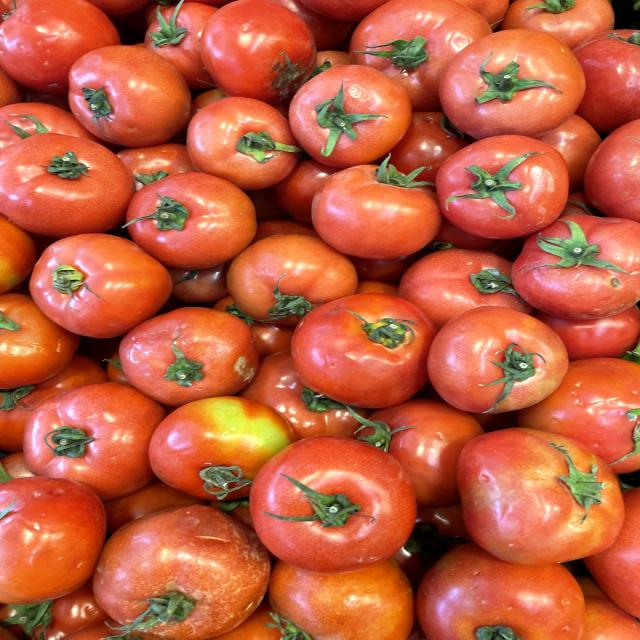tomato: (437, 414, 640, 564), (240, 428, 425, 574), (412, 295, 603, 416), (11, 220, 189, 337), (292, 289, 459, 413), (95, 302, 276, 406), (433, 25, 596, 137), (16, 384, 180, 494), (423, 132, 581, 243), (301, 155, 452, 265), (115, 161, 266, 271), (54, 48, 194, 150), (0, 134, 139, 235), (281, 62, 416, 165)
